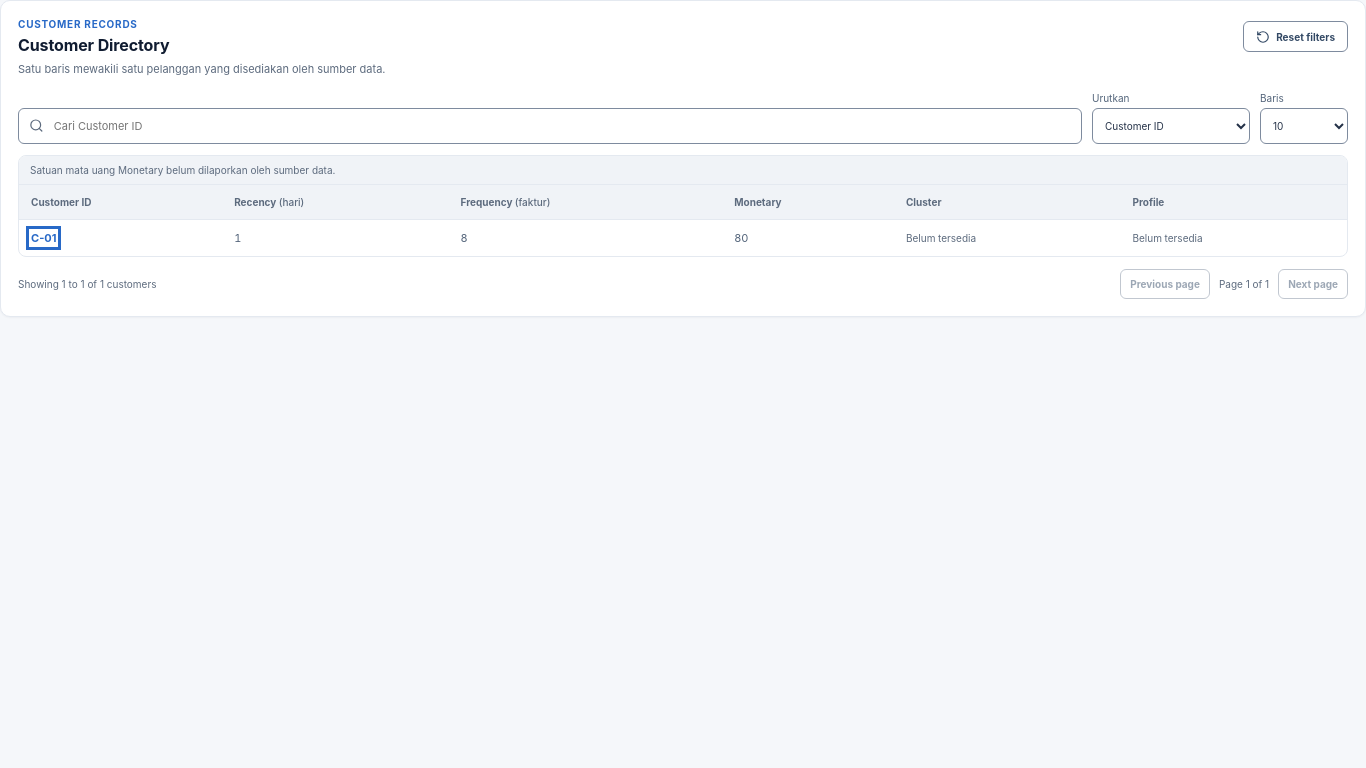
Test: CustomerDirectory › opens customer details, labels unavailable clusters, and supports Escape and focus restoration
The width and height of the screenshot is (1366, 768).
Click the button named "View customer C-01".
click(44, 238)  # box [31,231,56,245]
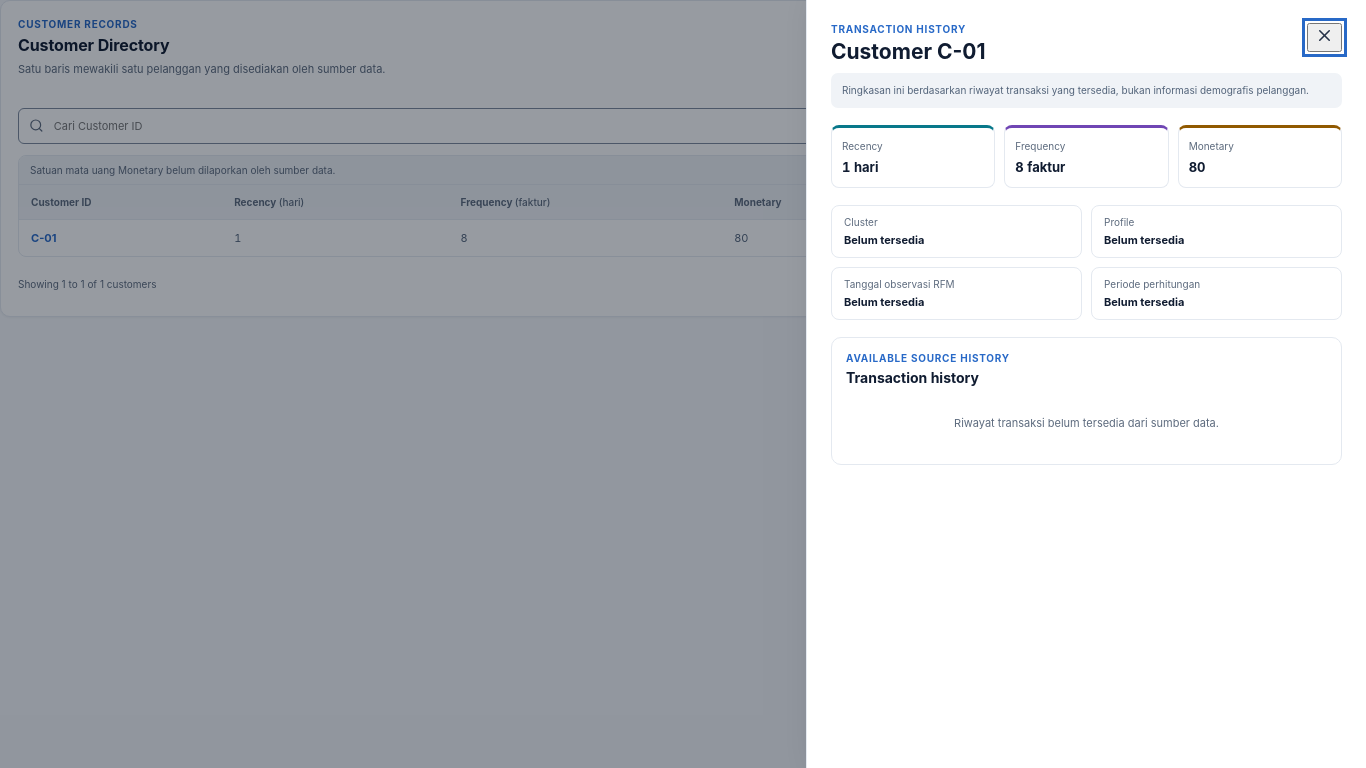
Expected: the 2nd text "Belum tersedia" is shown, [906,232,976,244]
Expected: the dialog "Customer C-01" is shown, [806,0,1365,767]
Press Escape in the button named "Close customer details", box [1307,23,1342,52]
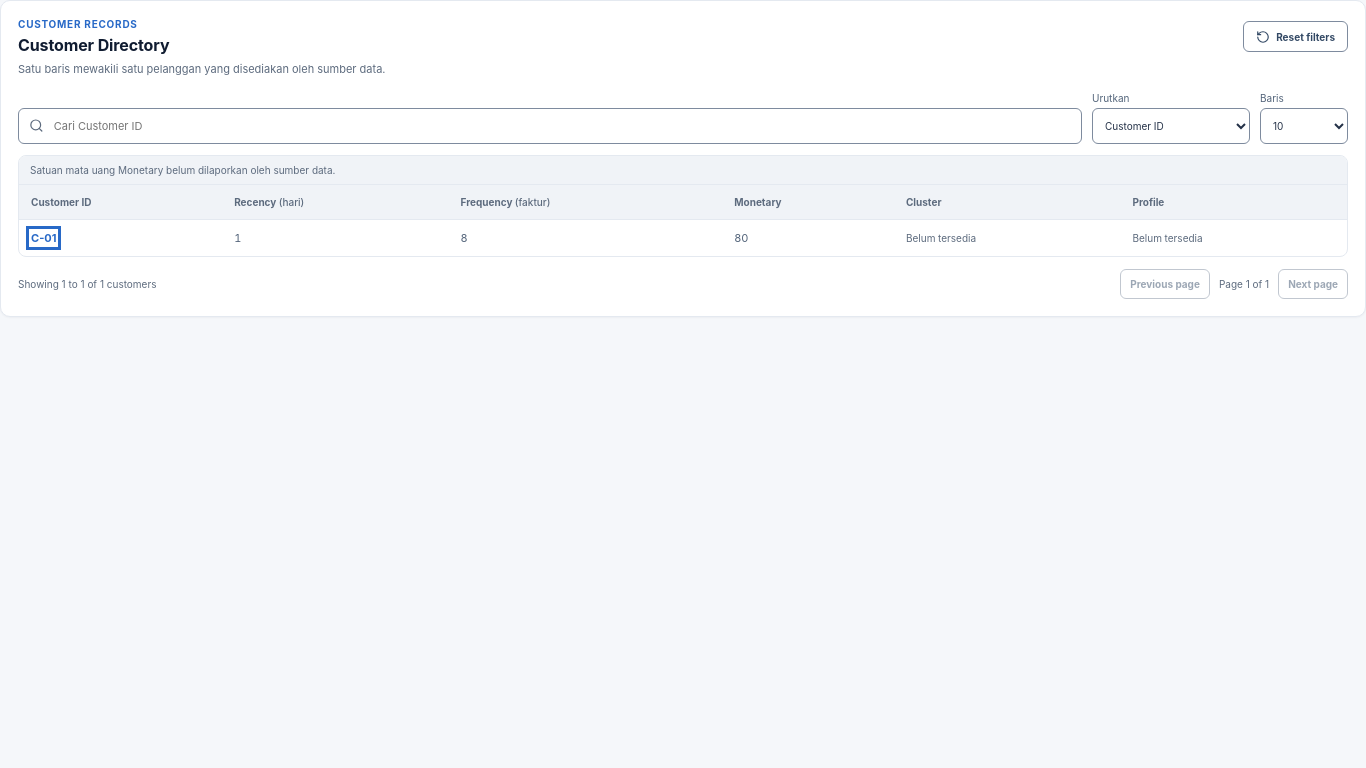
Expected: the dialog is gone
